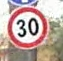limite 30: (5, 5, 48, 50)
